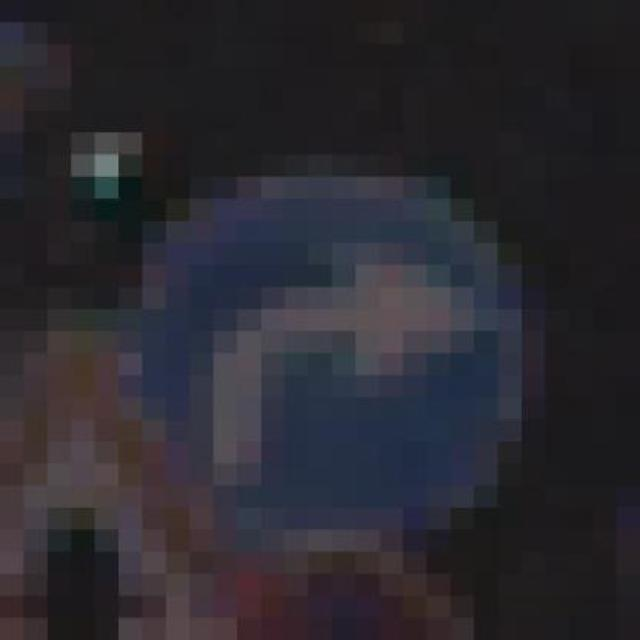Turn right ahead: (79, 115, 576, 556)
